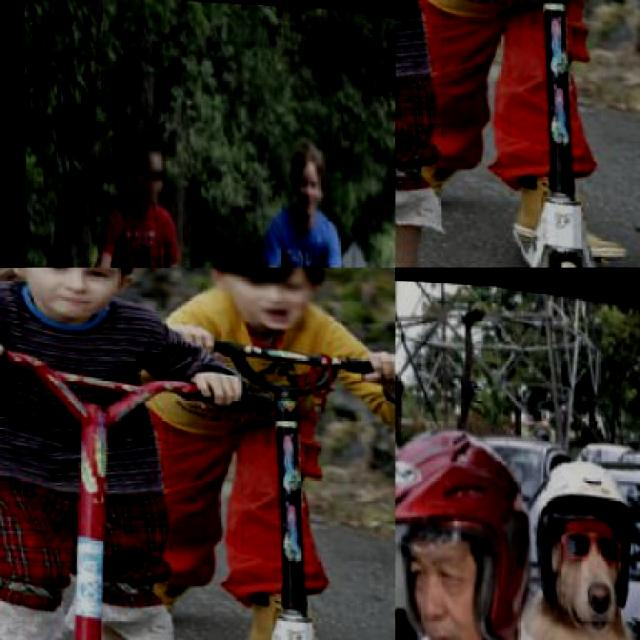With Helmet: (396, 408, 552, 638)
Without Helmet: (192, 268, 338, 329), (5, 268, 138, 312), (272, 130, 337, 218), (115, 122, 171, 202)
